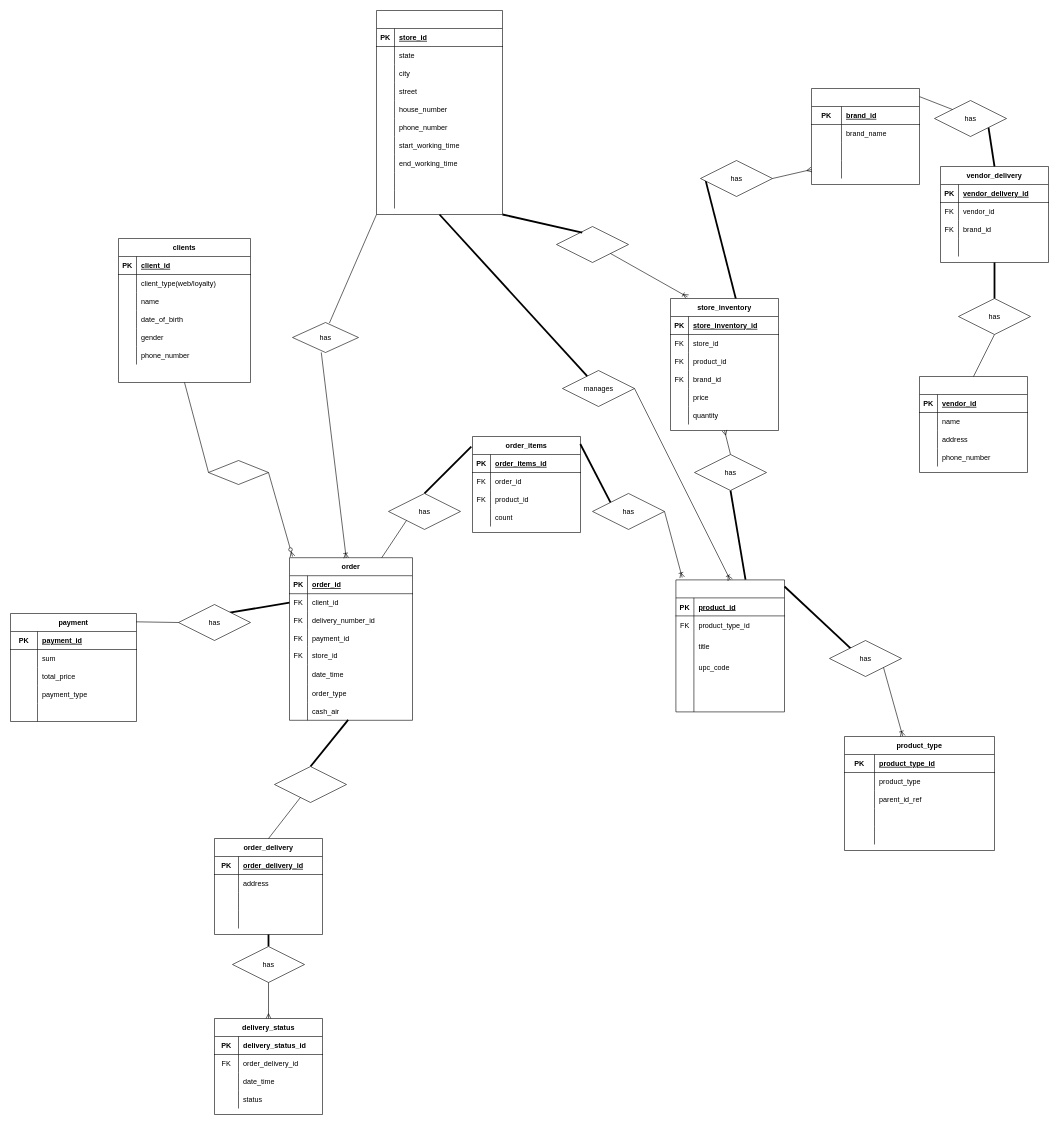
Some shapes in this 1059 by 1125 pixel diagram are drawn without their labels. The box of each missing label's shape, as (x1, y1, x2, y2) in pixels:
brands: (811, 88, 920, 184)
can be: (274, 766, 346, 802)
collaborates: (556, 226, 628, 262)
makes: (208, 460, 268, 484)
products: (675, 579, 784, 712)
stores: (376, 10, 502, 214)
vendors: (919, 376, 1028, 472)
